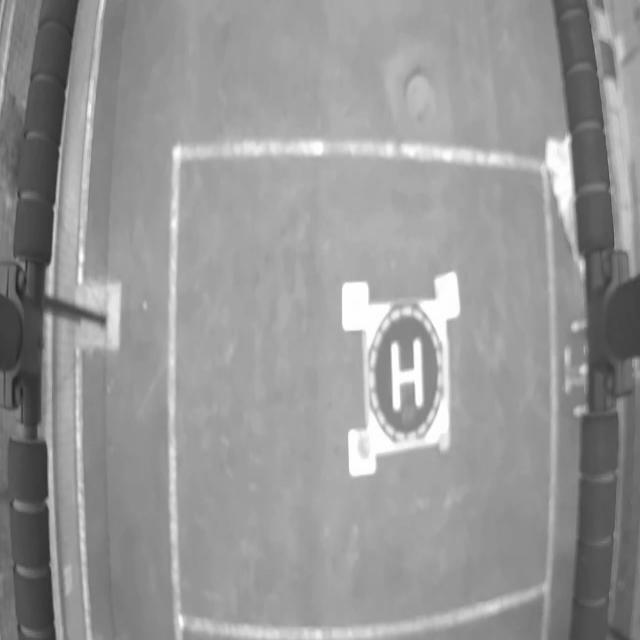Helipad: (390, 340, 424, 411)
